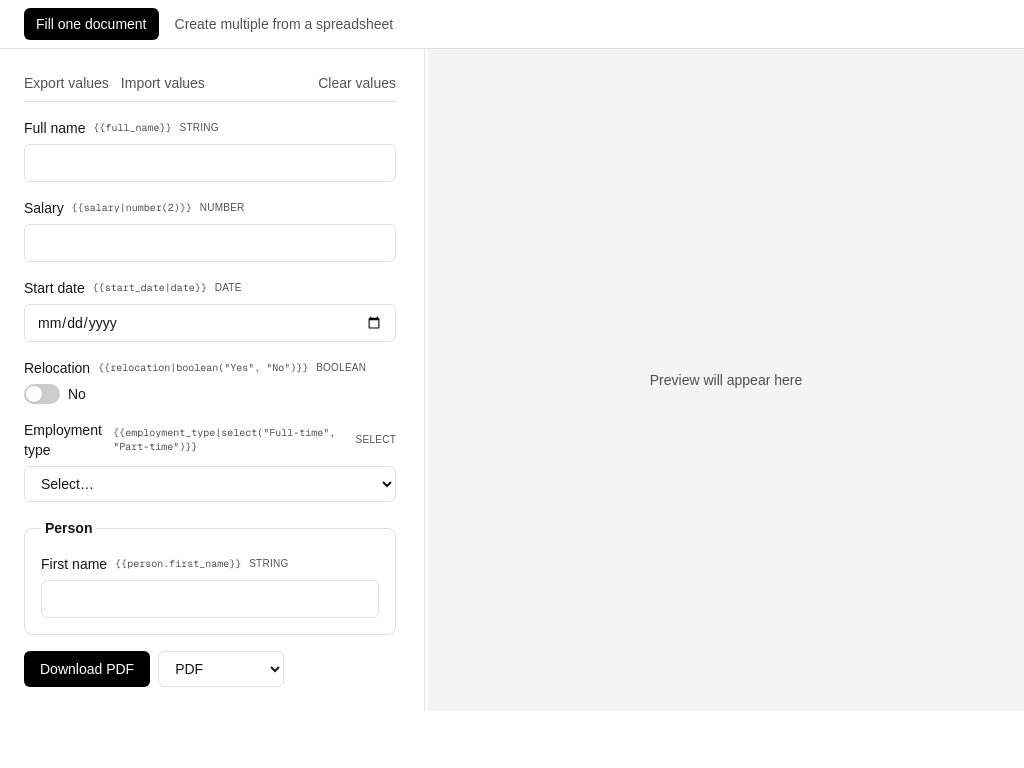
Test: FillForm — submit, persistence & values import/export › shows an error message when PDF generation fails
Step 1. Type "Jane Doe" into the field labelled "Full name {{full_name}} string" → (210, 163), box [24,144,396,182]
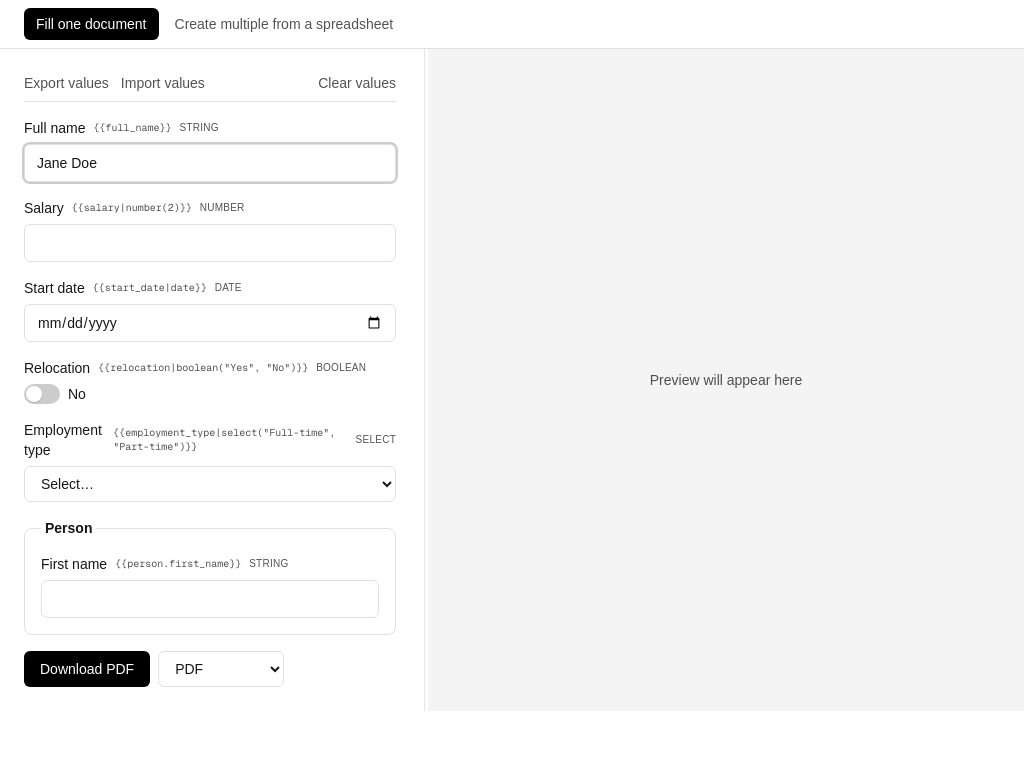
Step 2. Type "1000" into the number field labelled "Salary {{salary|number(2)}} number" → (210, 243), box [24,224,396,262]
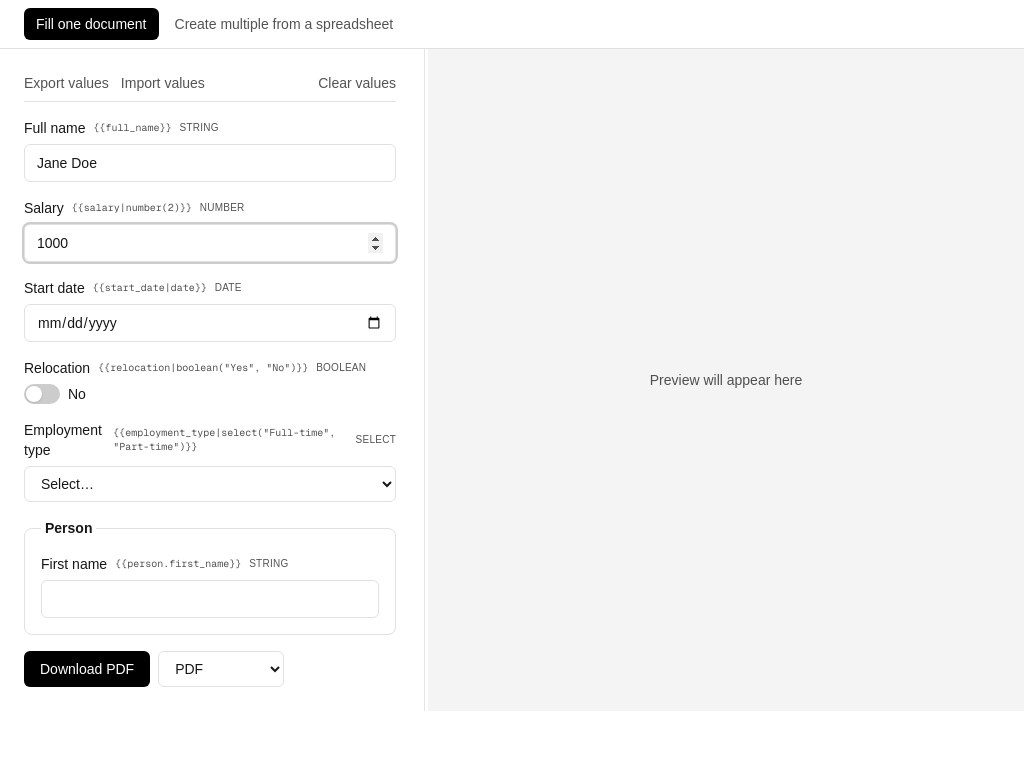
Step 3. Type "2026-03-05" into the date field labelled "Start date {{start_date|date}} date" → (210, 323), box [24,304,396,342]
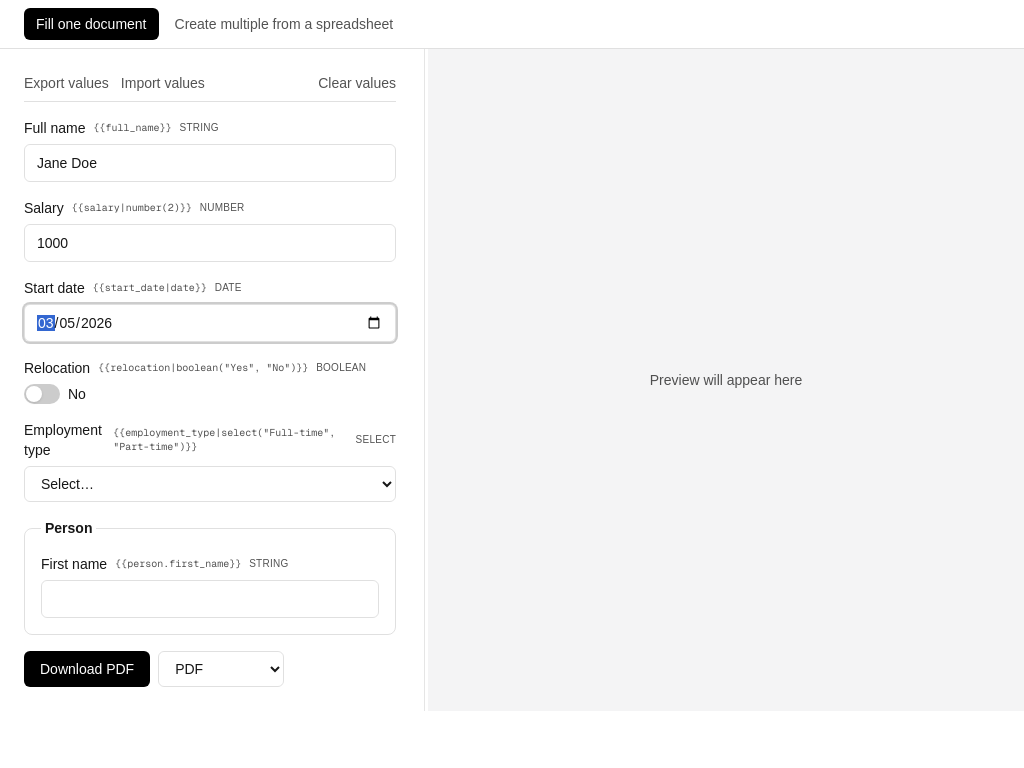
Step 4. Select "Full-time" in the dropdown labelled "Employment type" → (210, 484), box [24,466,396,502]
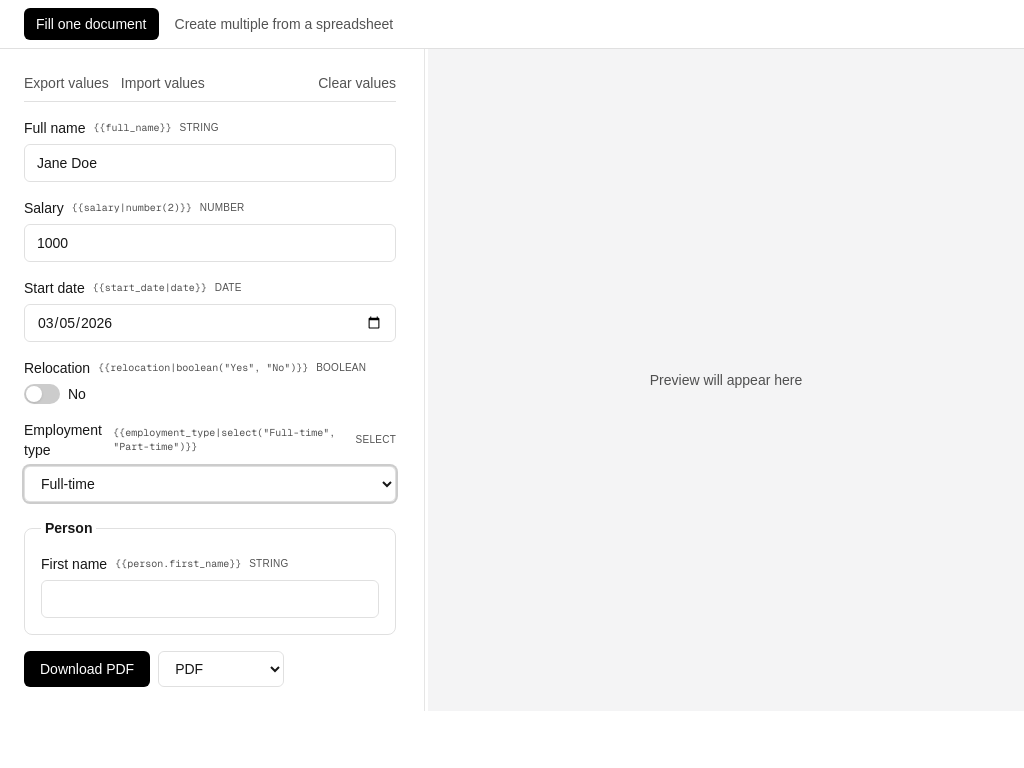
Step 5. Type "Jane" into the field labelled "First name {{person.first_name}} string" → (210, 599), box [41,580,379,618]
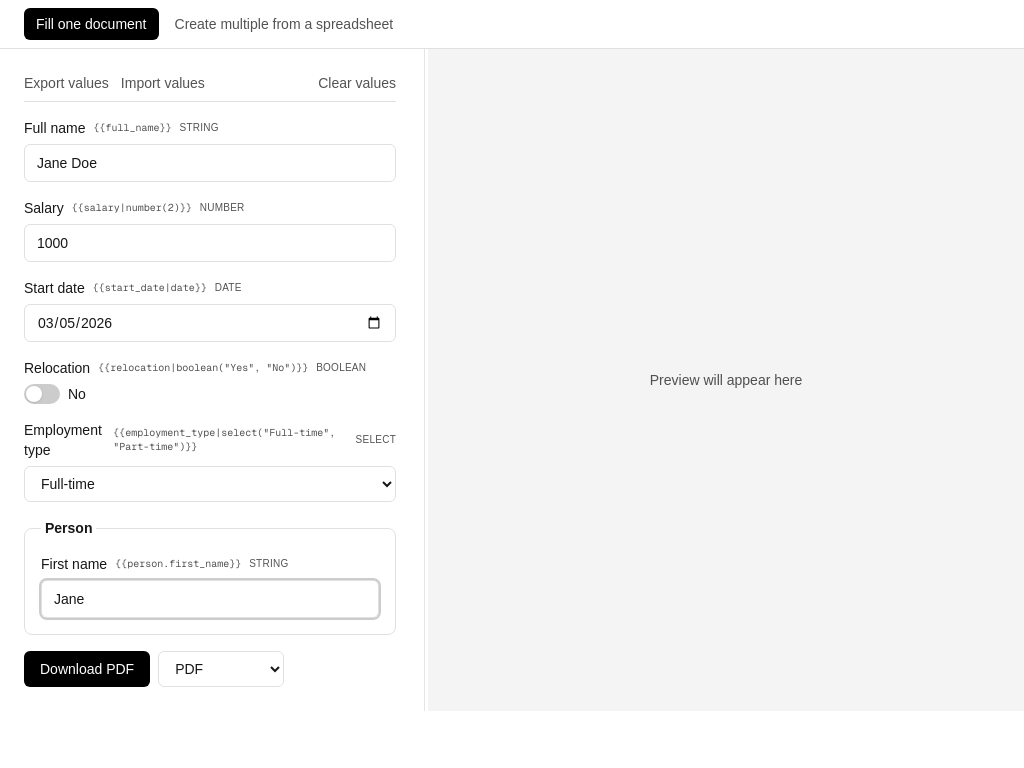
Step 6. Click the button "Download PDF" → (87, 669), box [24,651,150,687]
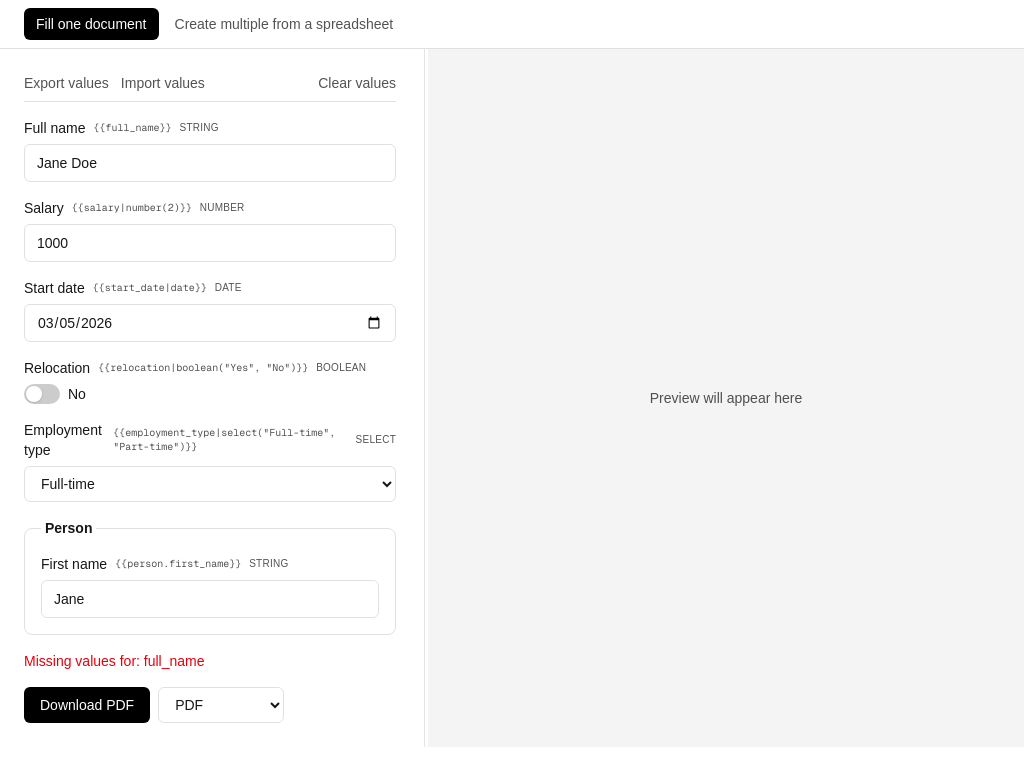
Check: the text "Missing values for: full_name" is shown, box [24,653,204,669]
